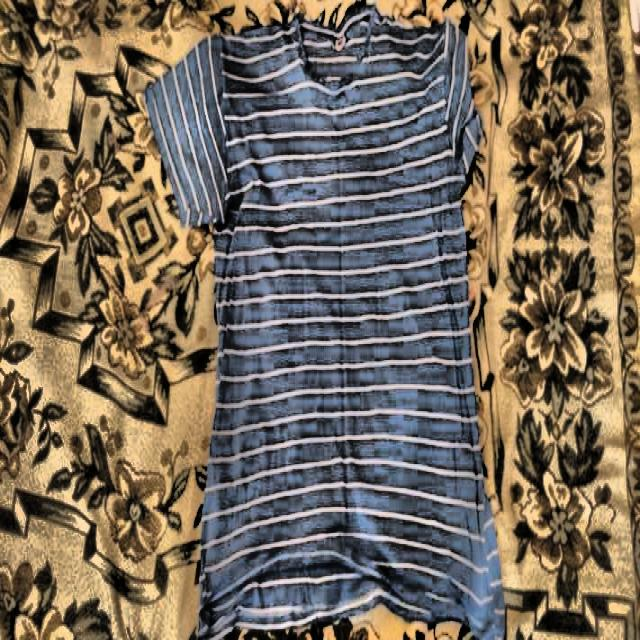clothes: (144, 11, 503, 640)
